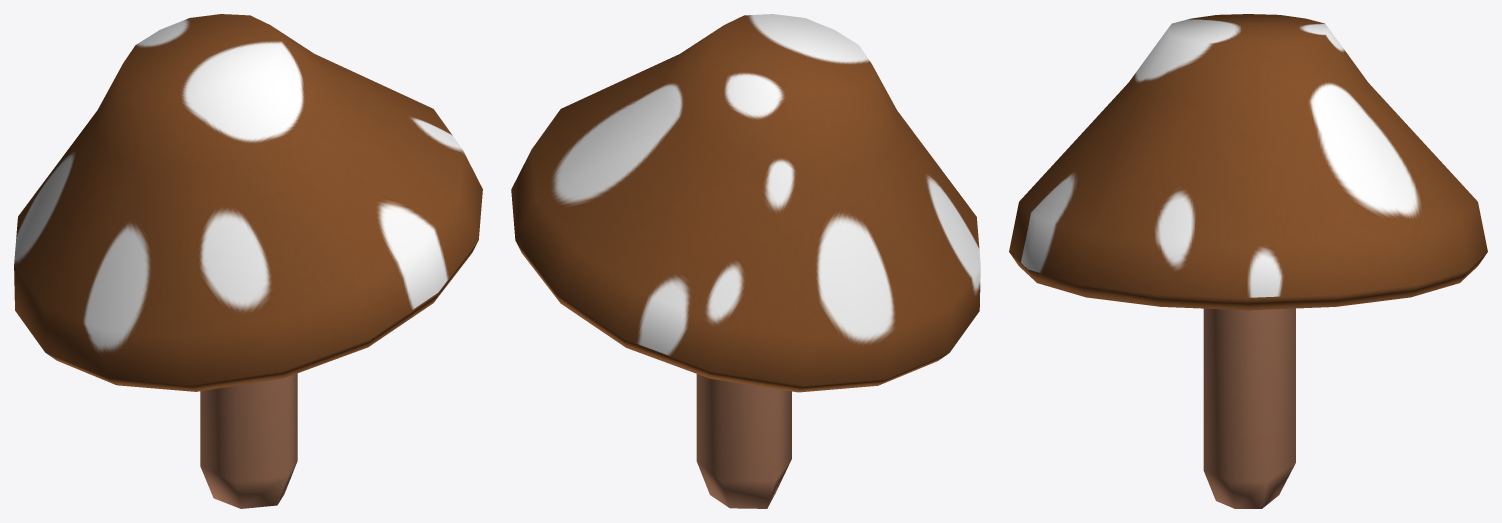
Rendered from Mushroom_3A.fbx.
The picture shows the model from 3 angles, left to right: view 1: azimuth 30°, elevation 25°; view 2: azimuth 150°, elevation 25°; view 3: azimuth 270°, elevation 25°; orthographic projection.
Parts seen in each view (by area): view 1: MushRoom_3A; view 2: MushRoom_3A; view 3: MushRoom_3A.
Part boxes in pixels (box(x1,y1,x2,y2)): MushRoom_3A: box(14, 14, 482, 508); MushRoom_3A: box(511, 14, 980, 508); MushRoom_3A: box(1009, 14, 1487, 508).
Bounding box in the file's own units: 2.71 × 2.95 × 2.78.
1 material, 1 textured.
